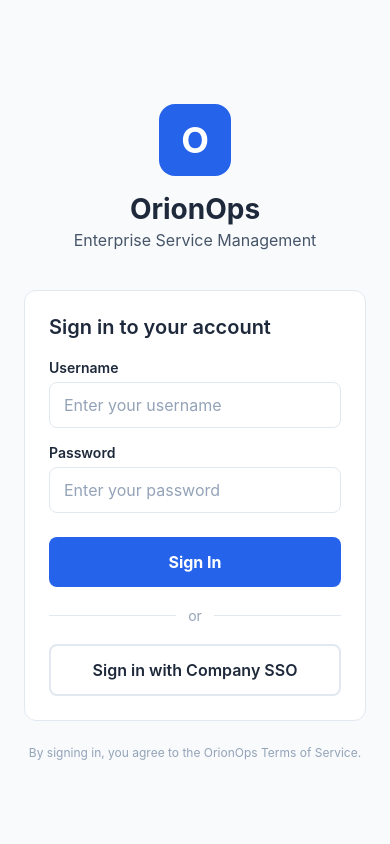
Scenario: LoginScreen › shows error on failed login
In the field labelled "Username": coordinates (195, 405) x1=49 y1=382 x2=341 y2=428, type "baduser"
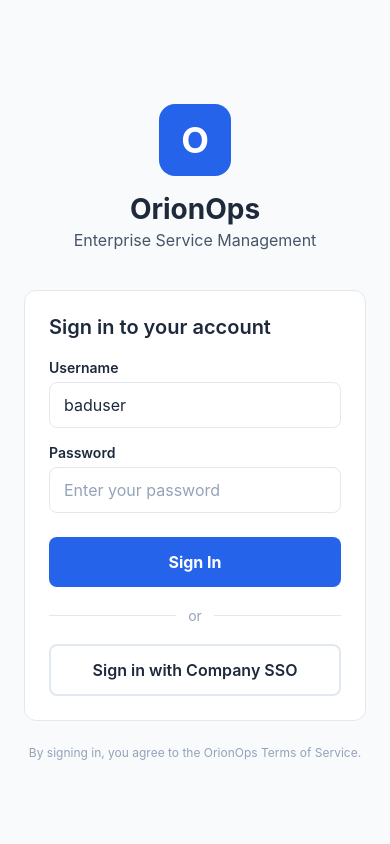
In the password field labelled "Password": coordinates (195, 490) x1=49 y1=467 x2=341 y2=513, type "badpass"
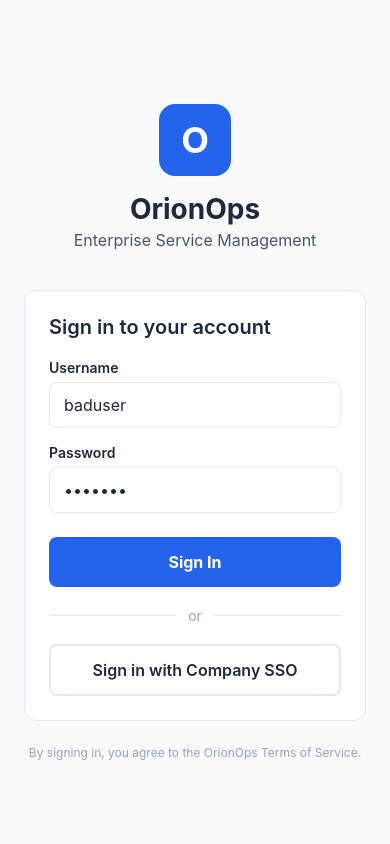
Click the button labelled "Sign In": coordinates (195, 562) x1=49 y1=537 x2=341 y2=587
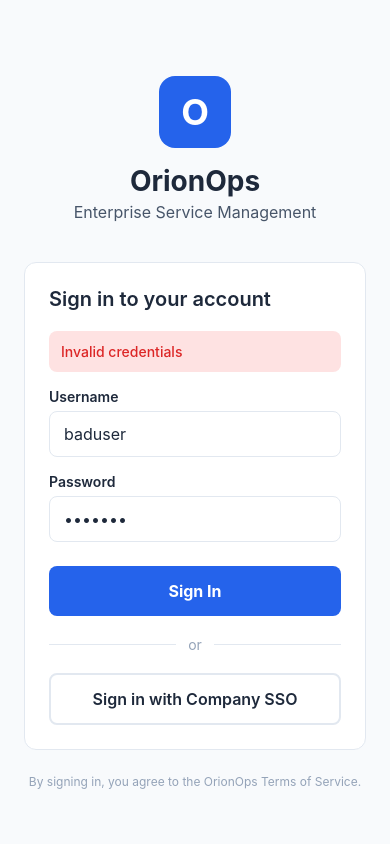
Now the text "Invalid credentials" is shown, box x1=61 y1=342 x2=182 y2=360
